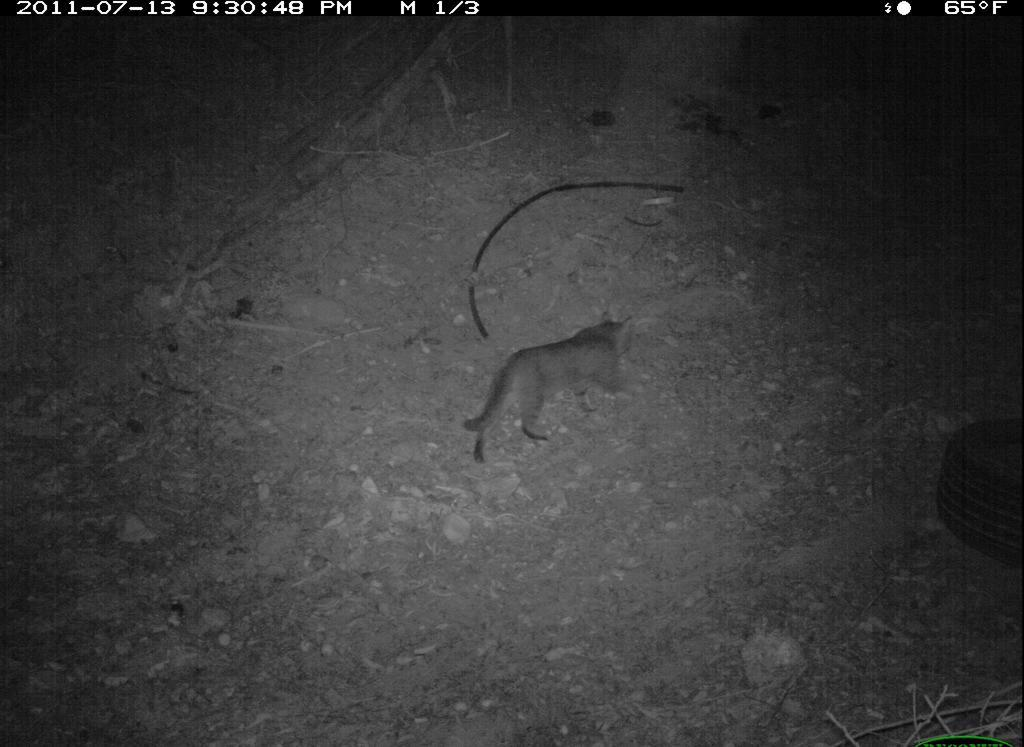cat: (460, 309, 639, 472)
